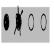correct: (3, 11, 10, 33)
no answer: (28, 11, 35, 35)
not correct: (14, 5, 24, 40)
